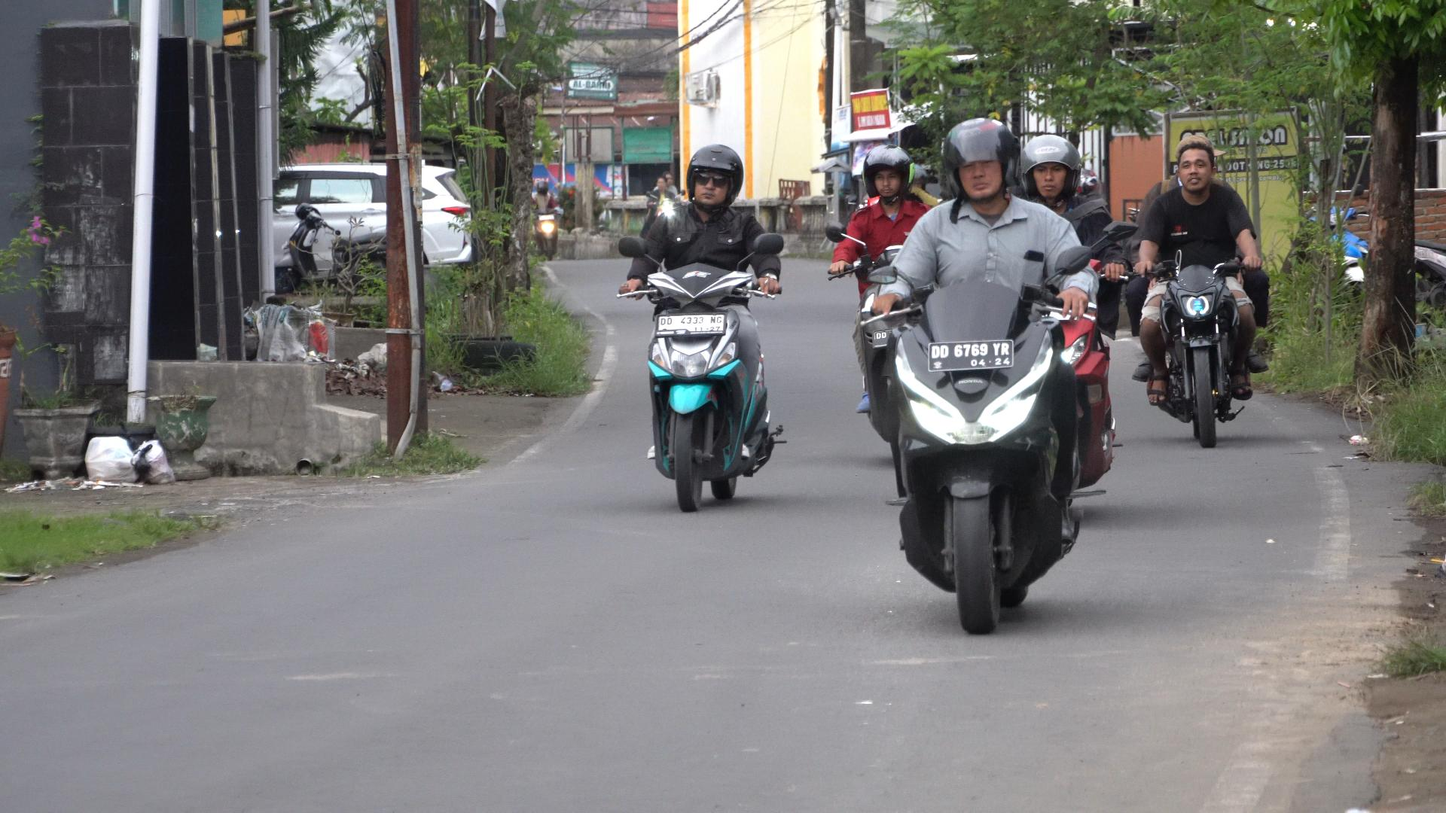number-plate: (926, 337, 1017, 370), (654, 309, 725, 338)
